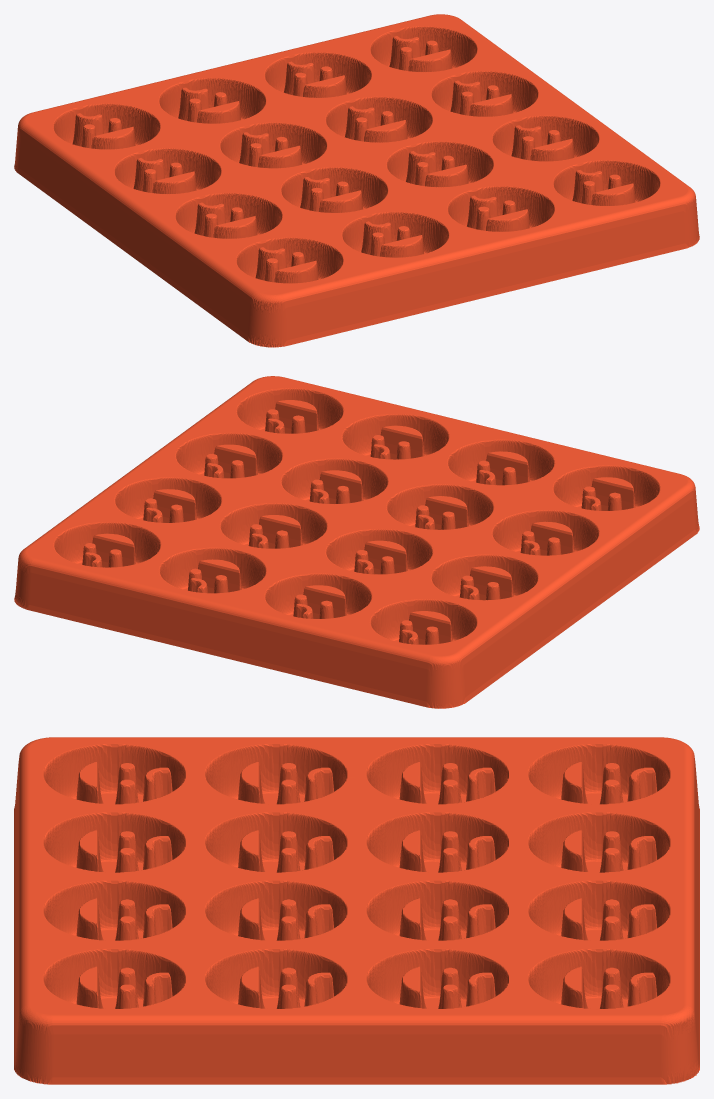
Rendered from mold.glb.
3 views of the same model, one above another, from view 1: azimuth 30°, elevation 25°; view 2: azimuth 150°, elevation 25°; view 3: azimuth 270°, elevation 25° (orthographic). The views are drawn at different scales.
Parts seen in each view (by area): view 1: geometry_0; view 2: geometry_0; view 3: geometry_0.
Part boxes in pixels (x1=…): geometry_0: x1=14, y1=14, x2=699, y2=347; geometry_0: x1=14, y1=376, x2=699, y2=708; geometry_0: x1=14, y1=737, x2=699, y2=1084.
Bounding box in the file's own units: 0.1569 × 0.0159 × 0.1569.
